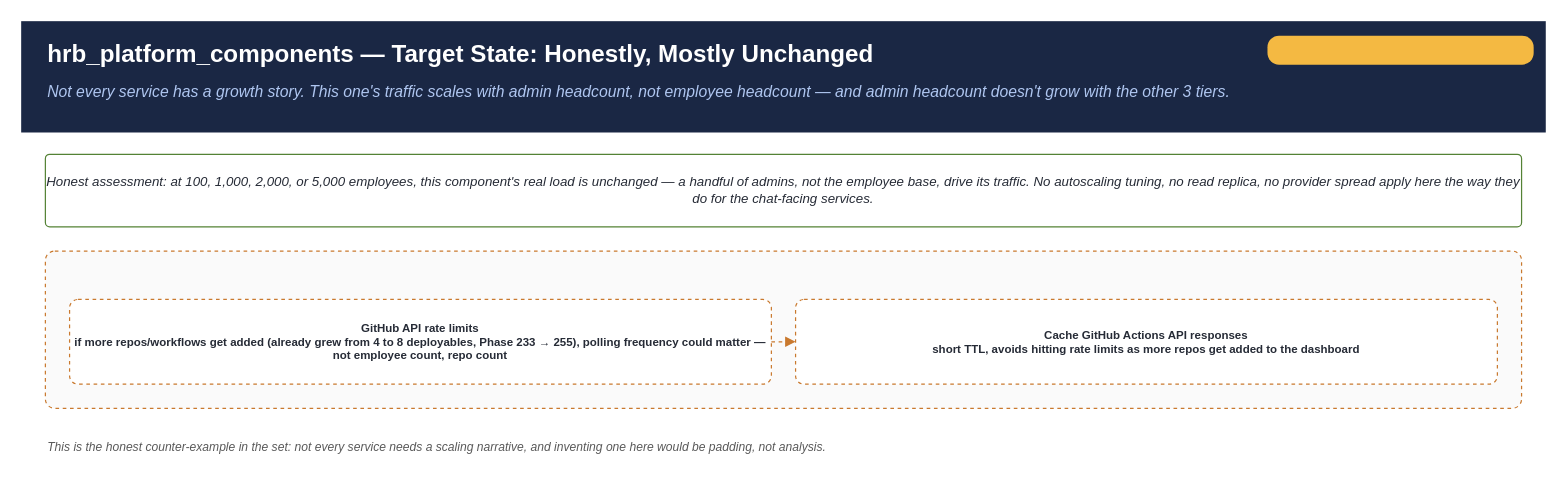
The diagram is 1566 pixels wide and 489 high, and some of its shapes have lost their labels. The shapes that lost their labels are listed below. From the top down, each one's box as (x1, y1, x2, y2) in pixels, then its label:
(1267, 35, 1533, 64): VIEW · target state, minimal
(44, 250, 1522, 408): The one real risk, not user-growth-related
